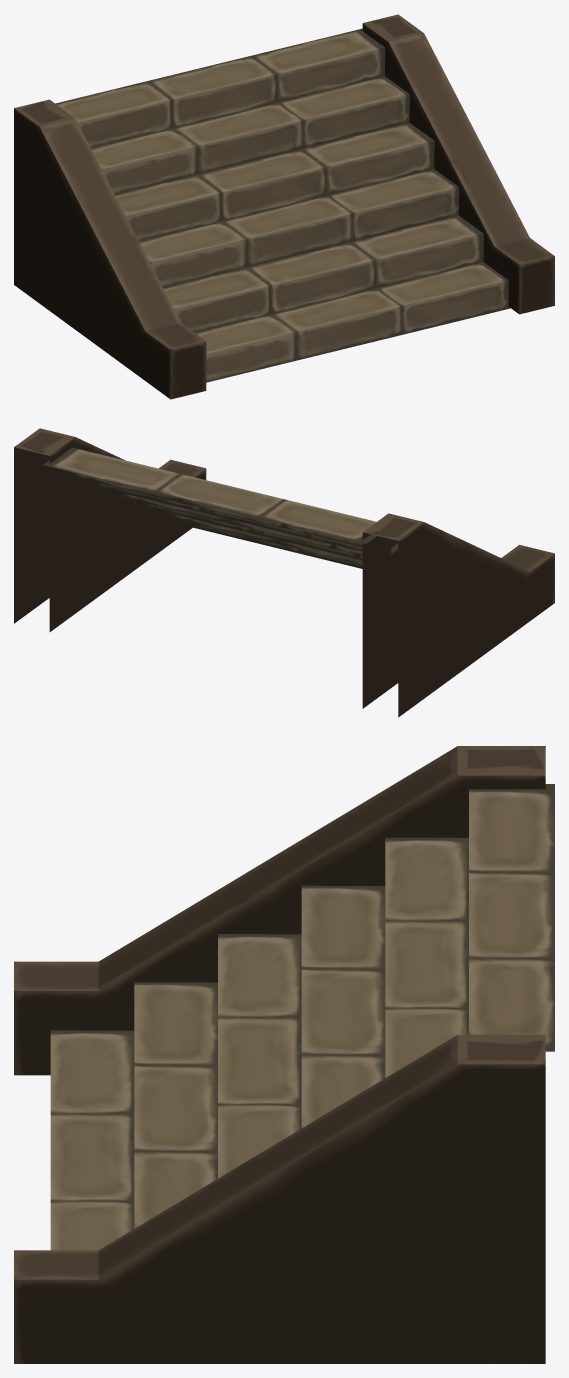
The model's file is Stairs.fbx.
3 renders of one model, top to bottom at view 1: azimuth 30°, elevation 25°; view 2: azimuth 150°, elevation 25°; view 3: azimuth 270°, elevation 25°, orthographic. The views are drawn at different scales.
Visible parts, largest first — view 1: Stairs; view 2: Stairs; view 3: Stairs.
Part boxes in pixels (x1,y1,x2,y2): Stairs: [14, 14, 554, 399]; Stairs: [14, 428, 554, 717]; Stairs: [14, 746, 554, 1363].
Bounding box in the file's own units: 397 × 177 × 285.
